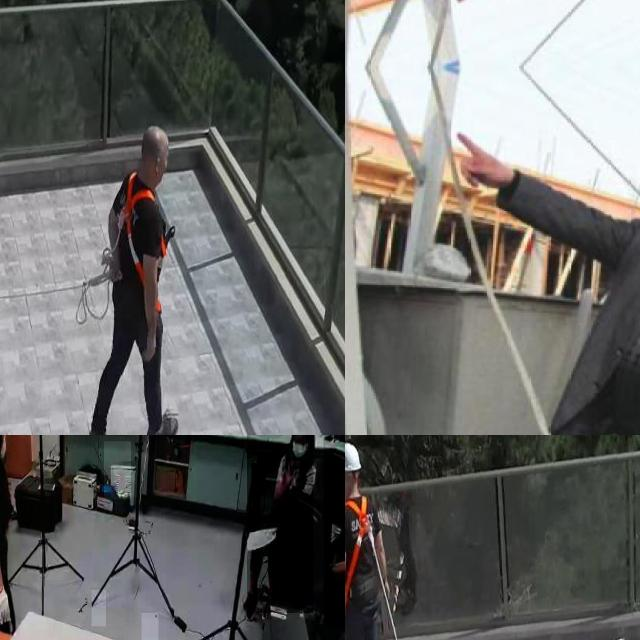Harness: (122, 172, 156, 286), (345, 496, 371, 604)
face_mask: (290, 435, 306, 466)
hand_glove: (0, 584, 8, 627)
hand_noglove: (459, 133, 514, 187), (280, 466, 296, 486)
person: (247, 435, 314, 613), (0, 435, 28, 640), (323, 435, 345, 627)
